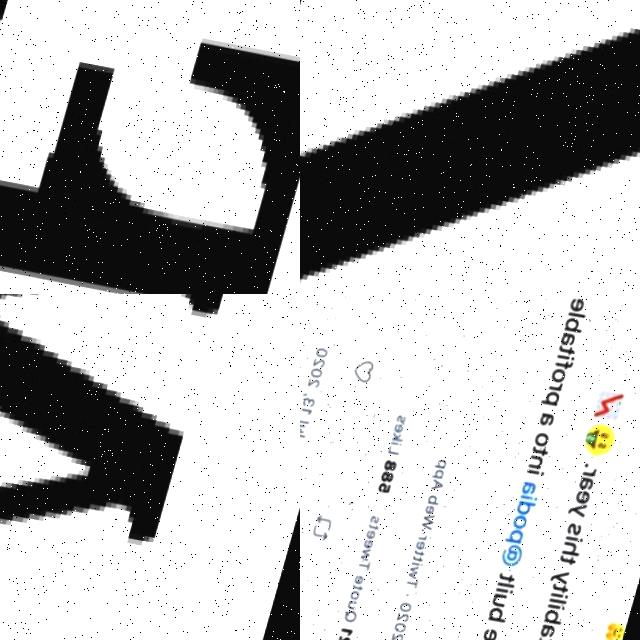0: (403, 620, 418, 632), (409, 599, 424, 611), (316, 366, 331, 378), (320, 345, 335, 357)
1: (352, 625, 365, 634), (306, 407, 320, 414)
2: (406, 609, 421, 622), (313, 376, 328, 388), (317, 356, 332, 368), (401, 629, 416, 640), (348, 632, 363, 640)
3: (308, 395, 323, 407)
5: (385, 480, 400, 492)
8: (388, 468, 403, 482), (391, 458, 406, 470)
E: (0, 35, 300, 294)
N: (0, 294, 285, 640)
Z: (300, 0, 640, 294)
